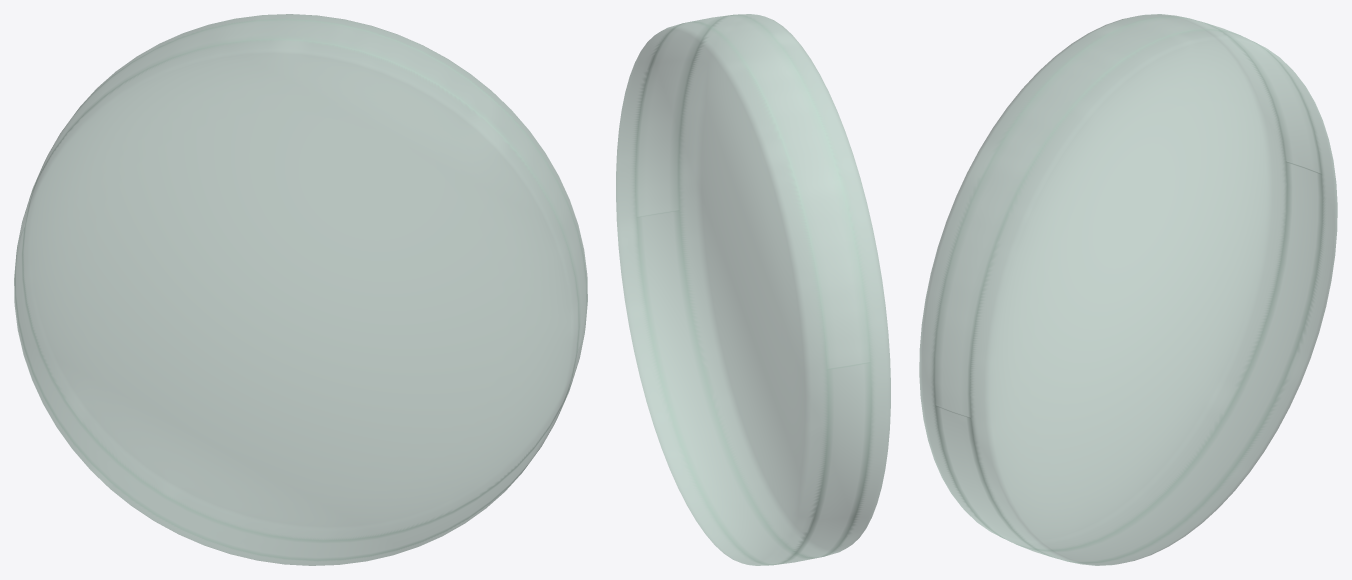
File: C.Item.01.glb
3 views of the same model, side by side, from view 1: azimuth 30°, elevation 25°; view 2: azimuth 150°, elevation 25°; view 3: azimuth 270°, elevation 25° (orthographic). The views are drawn at different scales.
Visible parts, largest first — view 1: C.Item.01; view 2: C.Item.01; view 3: C.Item.01.
Part boxes in pixels (left/top/right/bottom): C.Item.01: left=14, top=14, right=587, bottom=565; C.Item.01: left=616, top=14, right=890, bottom=565; C.Item.01: left=919, top=14, right=1337, bottom=565.
Size of the model in its own units: 0.0938 by 0.1087 by 0.0818.
1 material, 1 textured.
